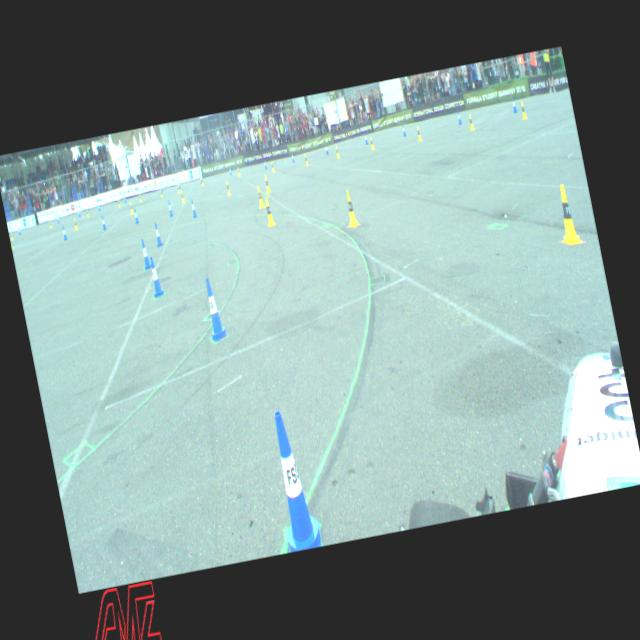blue_cone: (264, 408, 324, 551), (200, 276, 228, 342), (147, 255, 164, 297), (140, 238, 152, 270), (153, 222, 163, 246), (190, 198, 198, 218), (167, 200, 174, 216), (134, 208, 140, 224), (511, 97, 517, 113), (101, 216, 107, 230), (62, 226, 68, 240), (457, 111, 462, 124), (364, 132, 368, 144), (402, 124, 406, 136), (291, 152, 295, 163), (324, 144, 328, 154), (56, 214, 60, 223), (264, 160, 268, 169), (160, 184, 163, 192), (178, 181, 181, 189), (78, 210, 81, 217), (98, 203, 101, 210), (124, 195, 127, 202), (229, 168, 232, 175), (200, 174, 202, 183), (18, 227, 20, 234)
yellow_cone: (551, 184, 583, 246), (342, 188, 360, 228), (264, 197, 276, 226), (256, 186, 266, 208), (520, 101, 528, 119), (264, 175, 271, 193), (468, 114, 475, 130), (416, 125, 422, 142), (226, 180, 232, 196), (180, 190, 186, 204), (334, 145, 340, 158), (73, 218, 78, 230), (370, 136, 374, 150), (130, 202, 134, 214), (237, 166, 241, 177), (271, 161, 275, 172), (304, 154, 308, 165), (49, 220, 53, 228), (86, 210, 90, 218), (160, 189, 163, 198), (177, 184, 180, 193), (11, 232, 14, 240), (118, 200, 121, 208), (139, 194, 142, 202), (201, 178, 204, 185)
